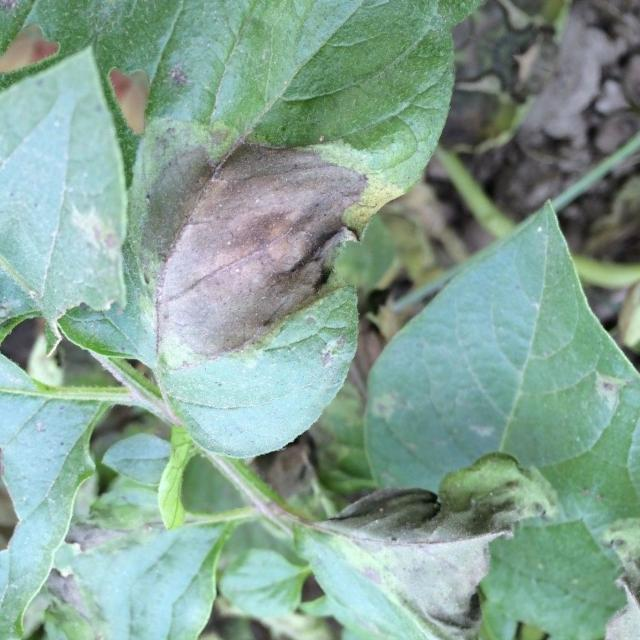Tomato leaf late blight: (81, 72, 454, 517), (255, 393, 562, 640)
